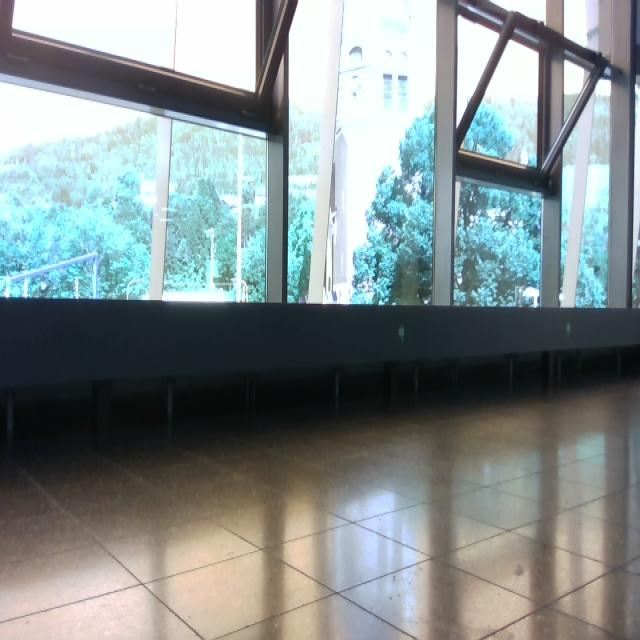light bulb: (349, 45, 363, 62), (559, 292, 565, 302)
tiled floor: (2, 375, 639, 639)
window: (1, 1, 640, 312)
